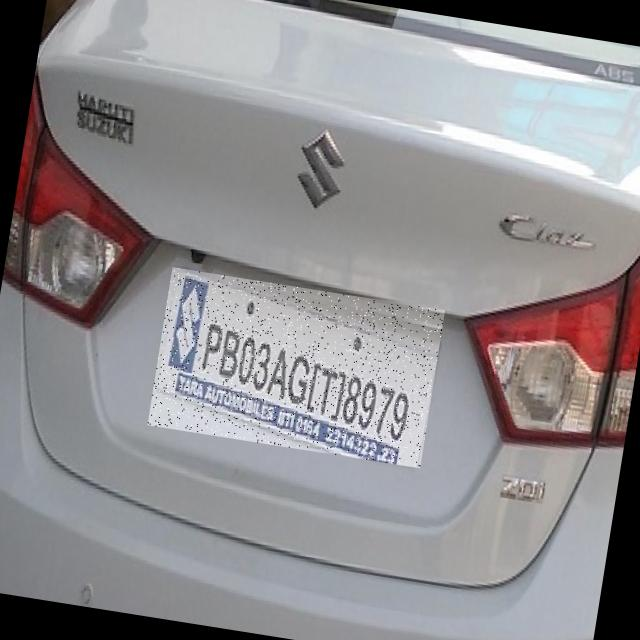Plate: (148, 269, 446, 470)
